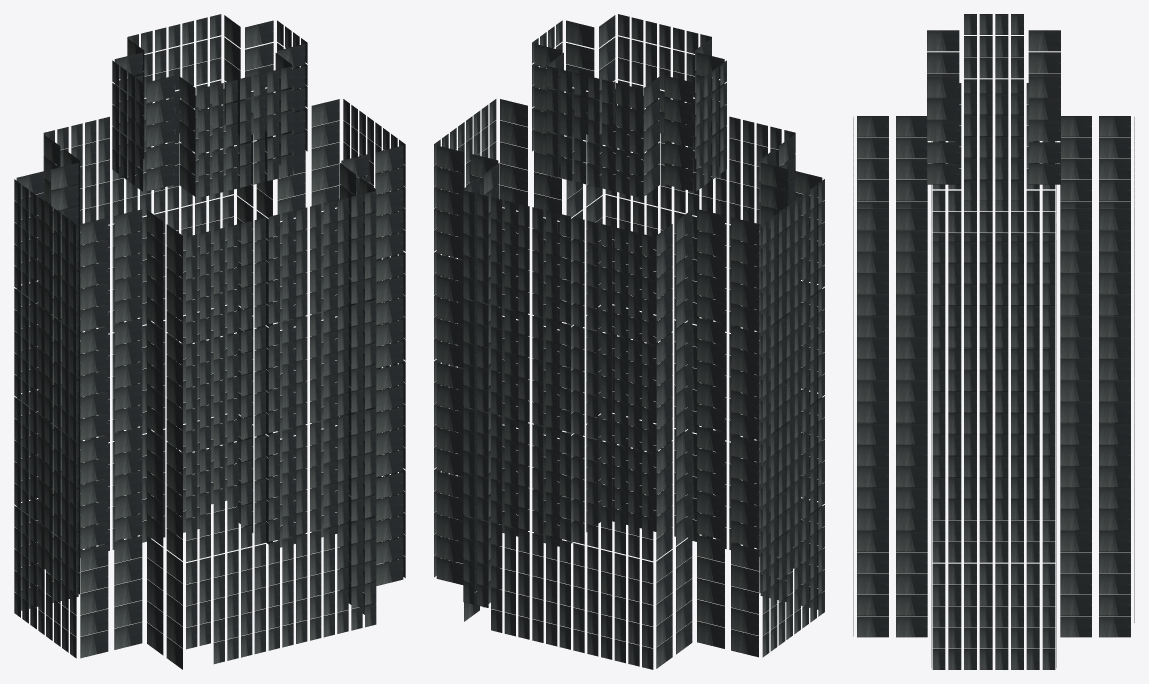
File: TRANS_Building_25stores_Office.obj
3 renders of one model, left to right at view 1: azimuth 30°, elevation 25°; view 2: azimuth 150°, elevation 25°; view 3: azimuth 270°, elevation 25°, orthographic.
Visible parts, largest first — view 1: TRANS_Building_25stores_Office; view 2: TRANS_Building_25stores_Office; view 3: TRANS_Building_25stores_Office.
Part boxes in pixels (<box>): TRANS_Building_25stores_Office: <box>14,14,405,669</box>; TRANS_Building_25stores_Office: <box>434,14,824,669</box>; TRANS_Building_25stores_Office: <box>853,14,1134,669</box>.
Size of the model in its own units: 15.69 by 24.78 by 11.75.
